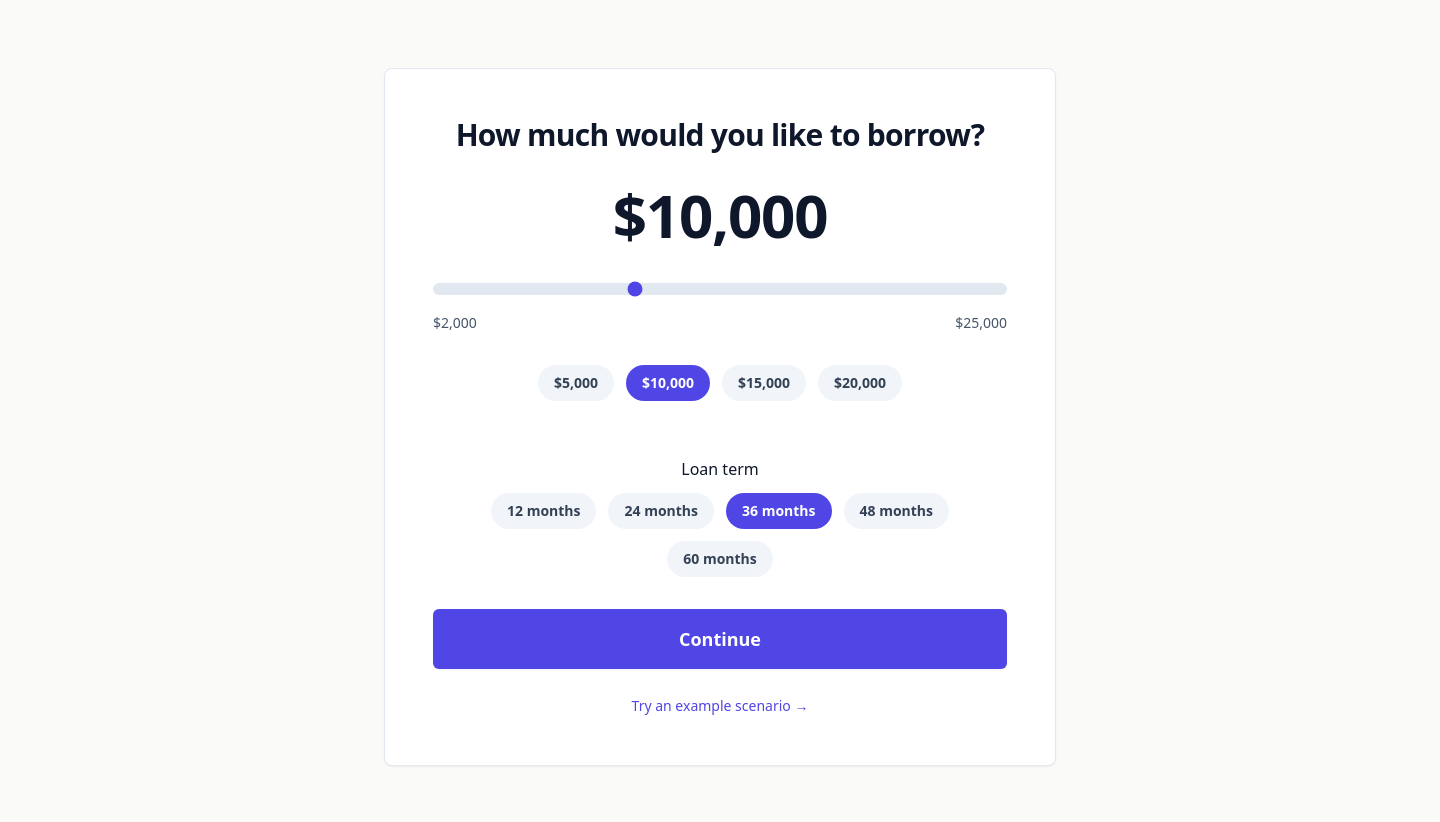
LoanWizard › Step 1: LoanAmountStep › advances to step 2 when continue button is clicked
Click the button "Continue". click: (720,639)
box: [433,609,1007,669]
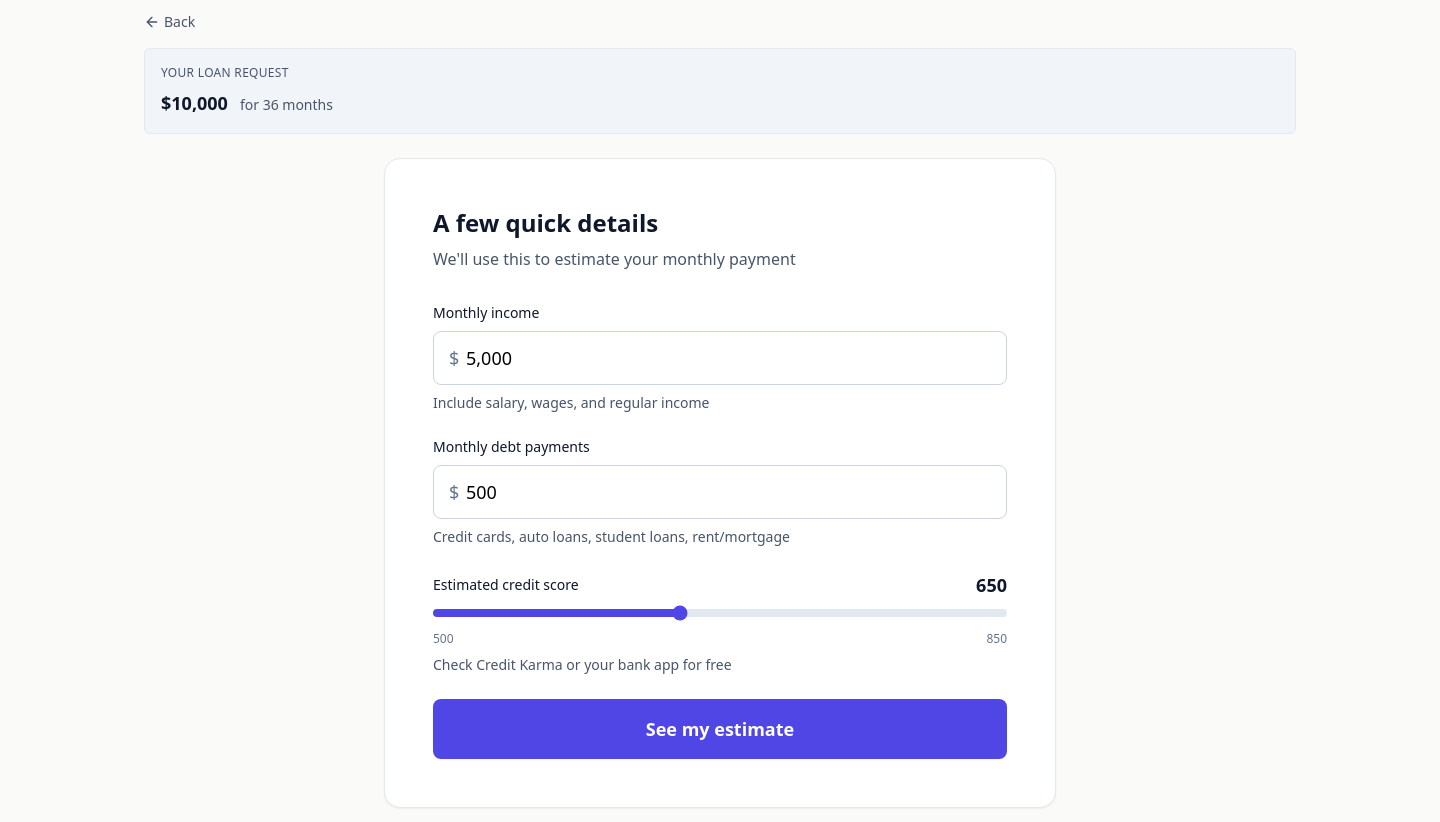
Result: the heading "A few quick details" is shown at [433,206,658,239]
